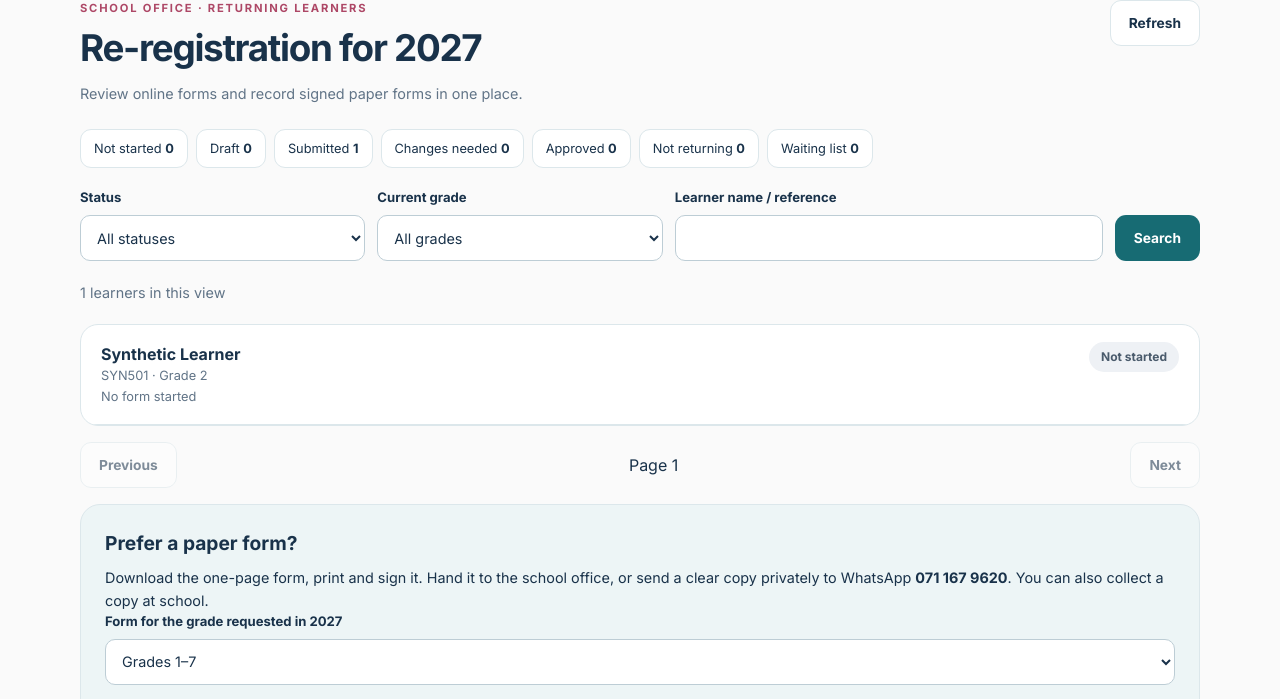
Scenario: recording a paper form requires a signed-form confirmation and only lists linked parents
Click the button that starts with "Synthetic". click: click(139, 354)
box: [81,325,1199,425]
(page scrolled)
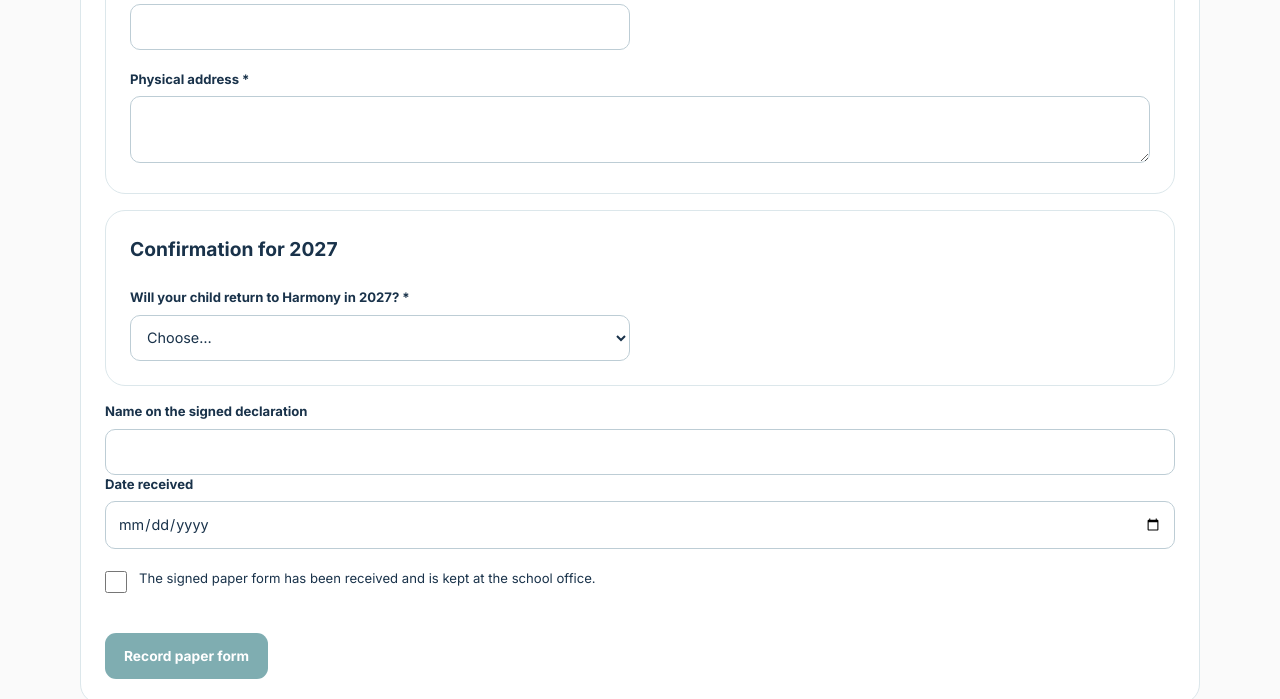
Expected: the button "Record paper form" is disabled, [105,633,268,679]
Click the checkbox. click: click(116, 582)
box: [105,571,127,593]
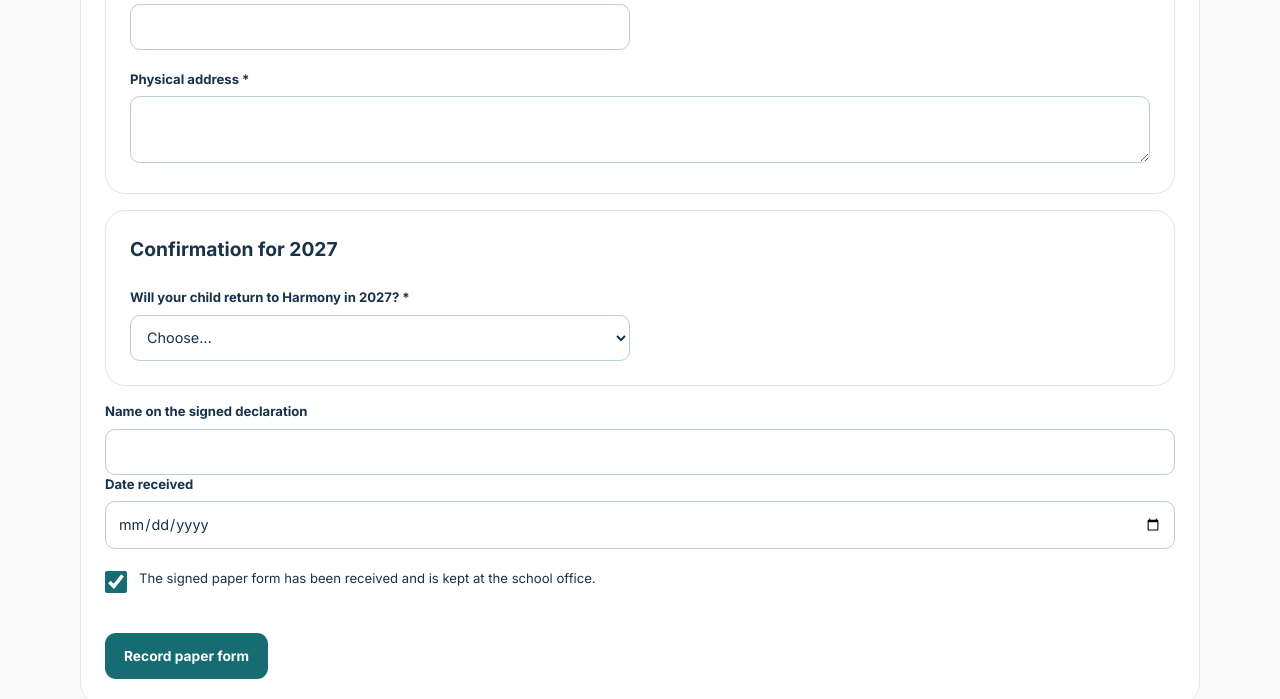
Expected: the button "Record paper form" is enabled, [105,633,268,679]
